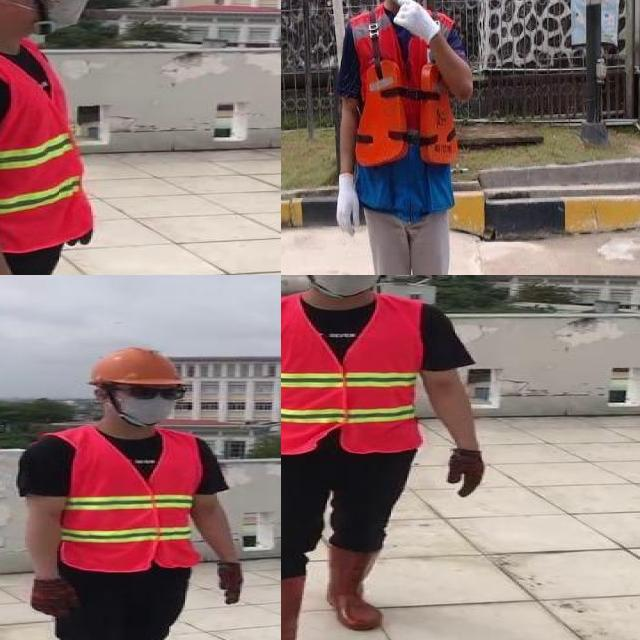boots: (325, 545, 389, 630), (281, 574, 305, 640)
face_mask: (121, 382, 185, 424), (23, 0, 90, 32), (306, 275, 388, 296)
glasses: (120, 382, 190, 404)
hand_glove: (27, 578, 82, 618), (448, 450, 487, 497), (216, 563, 246, 604), (72, 234, 96, 249)
head_helmet: (87, 345, 185, 388)
person: (281, 275, 498, 640), (10, 338, 252, 640), (312, 0, 495, 275), (0, 0, 123, 275)
vest: (346, 2, 462, 215), (281, 297, 419, 455), (59, 430, 204, 571), (0, 28, 91, 251)
